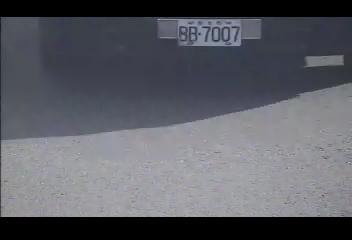plate: (177, 18, 243, 48)
